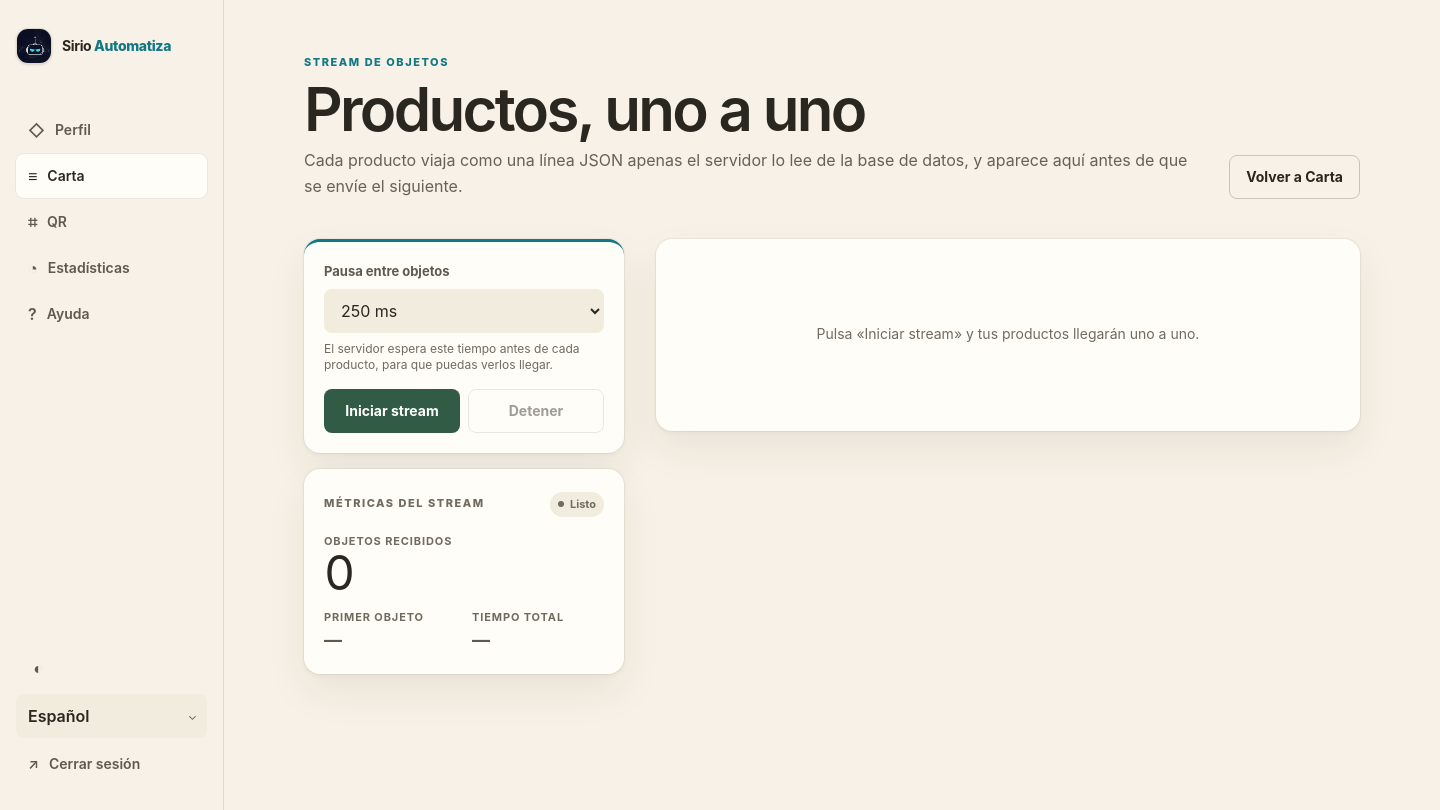
ProductStreamViewer › sends the chosen pause and cuts the download on Detener
The width and height of the screenshot is (1440, 810).
Step 1. Select "Sin pausa" in the dropdown labelled "Pausa entre objetos" → [464, 311], box [324,289,604,333]
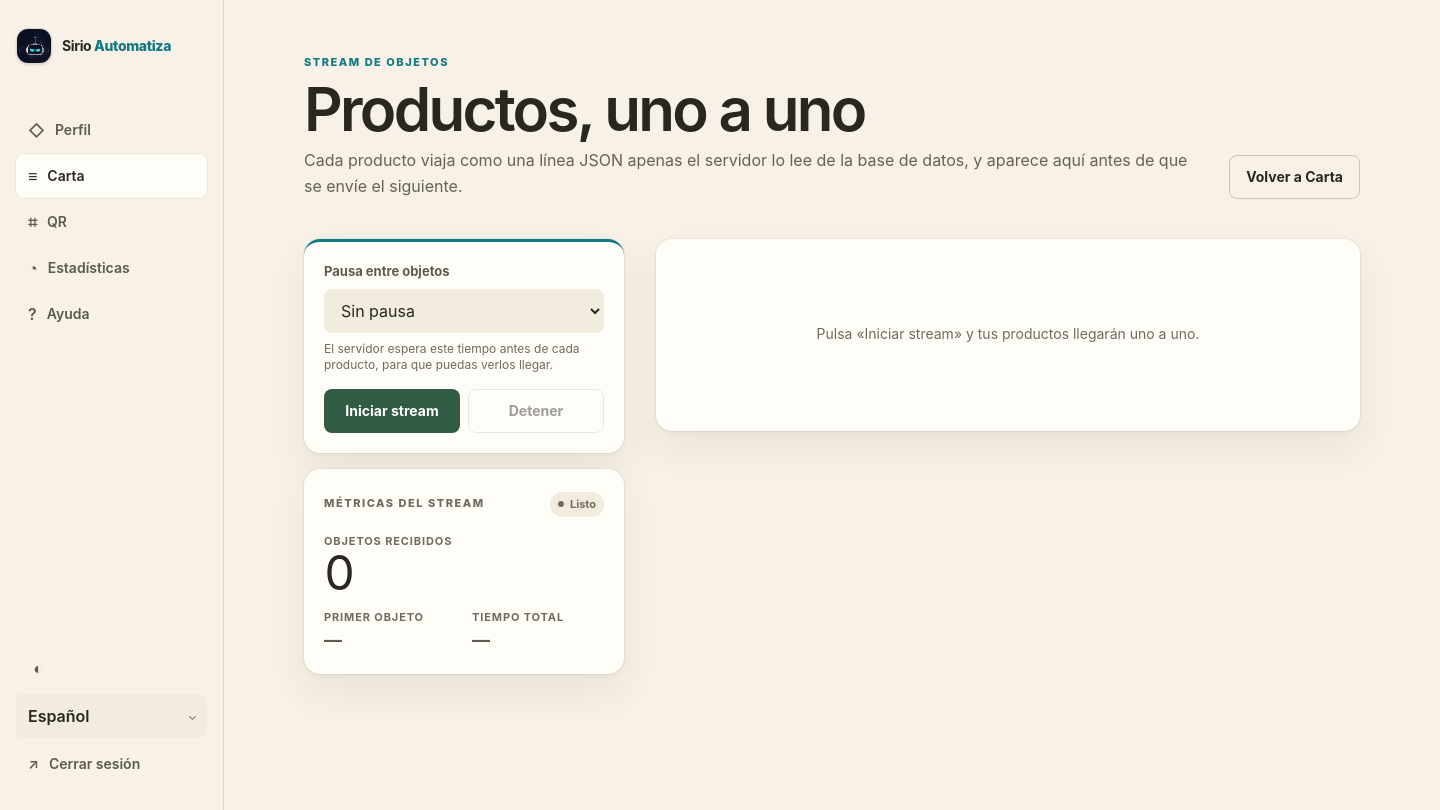
Step 2. Click the button "Iniciar stream" → [392, 411], box [324,389,460,433]
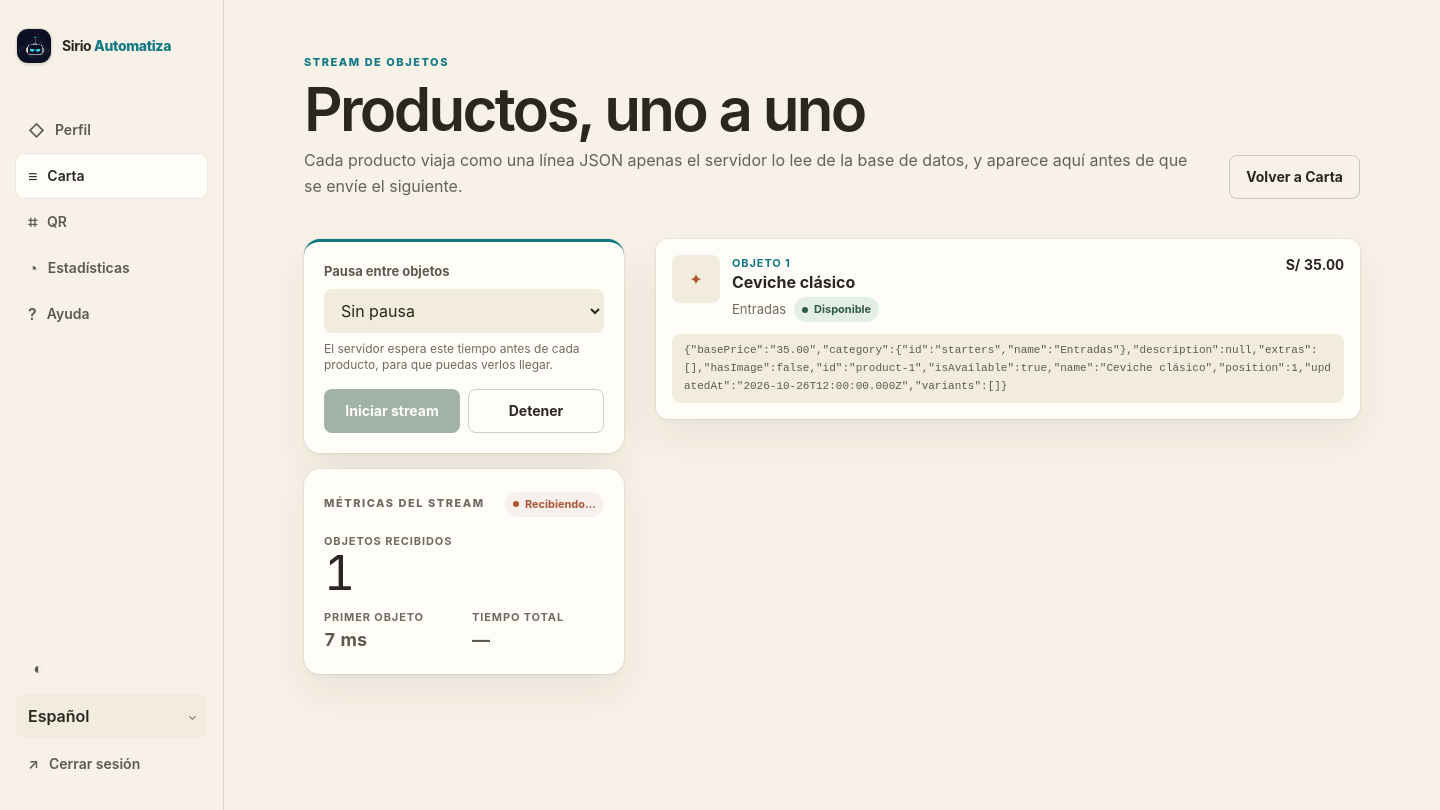
Result: the text "Objeto 1" is shown at [732,256,791,270]
Step 3. Click the button "Detener" → [536, 411], box [468,389,604,433]
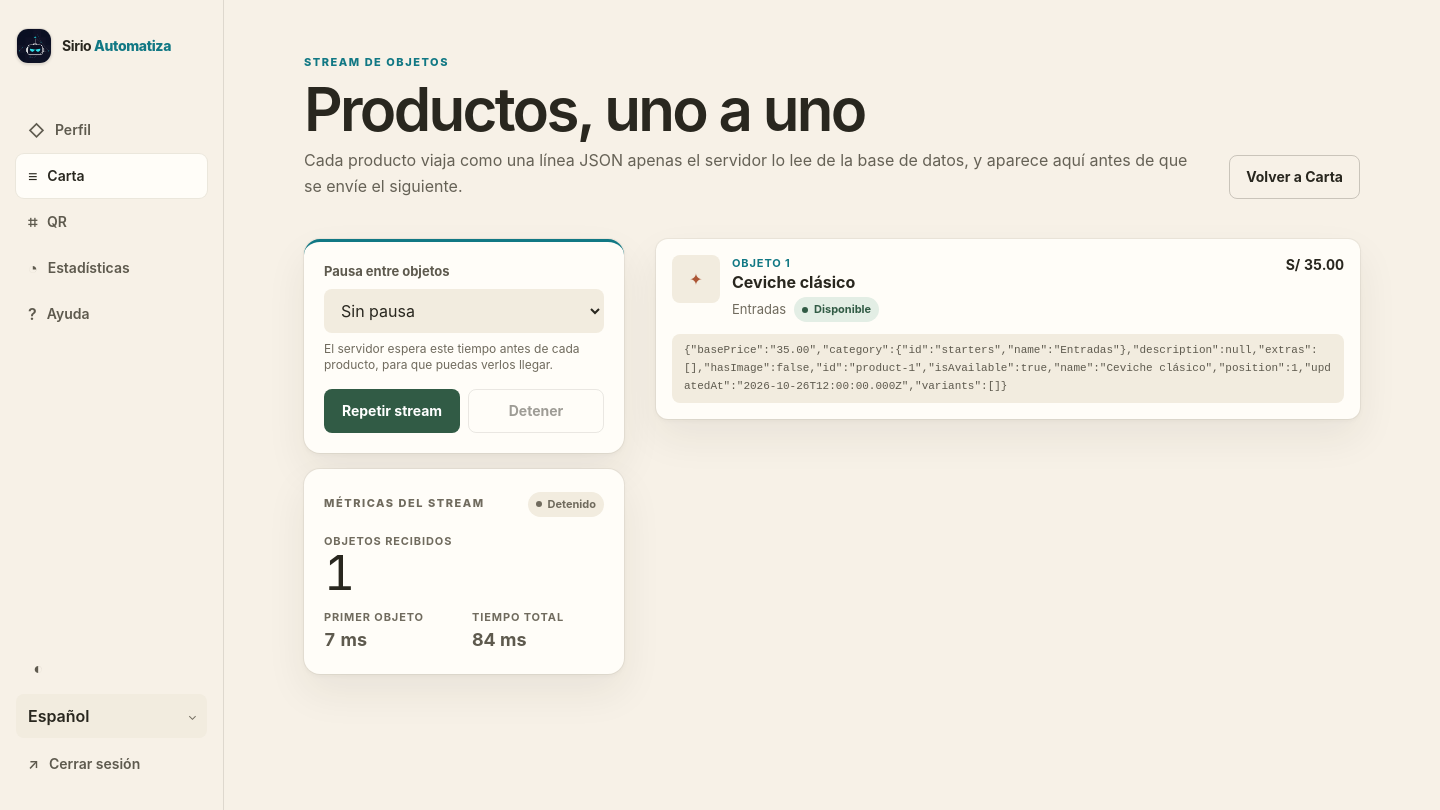
Result: the number of list items is 1 at [656,239,1360,419]
Result: the text "Detenido" is shown at [528,492,604,516]
